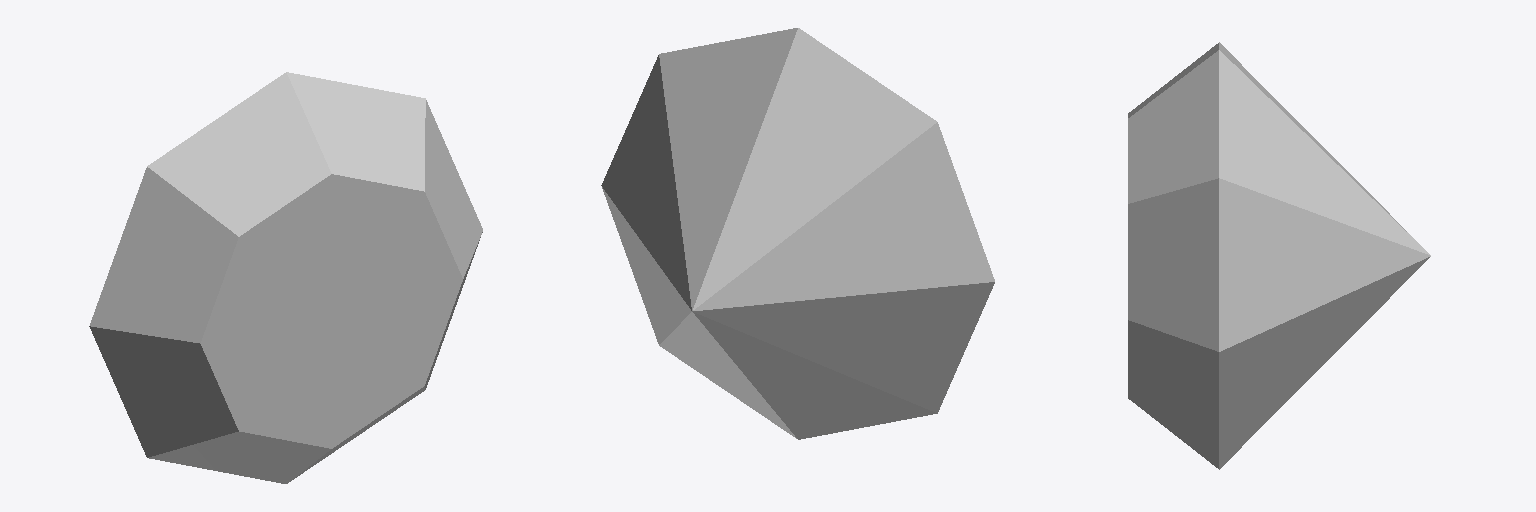
Rendered from diamond.obj.
The picture shows the model from 3 angles: view 1: azimuth 30°, elevation 25°; view 2: azimuth 150°, elevation 25°; view 3: azimuth 270°, elevation 25°; orthographic projection.
Visible parts, largest first — view 1: obj1; view 2: obj1; view 3: obj1.
Part boxes in pixels (x1,y1,x2,y2): obj1: (89, 72, 482, 483); obj1: (601, 28, 994, 439); obj1: (1128, 42, 1430, 469).
Size of the model in its own units: 36 by 36 by 24.